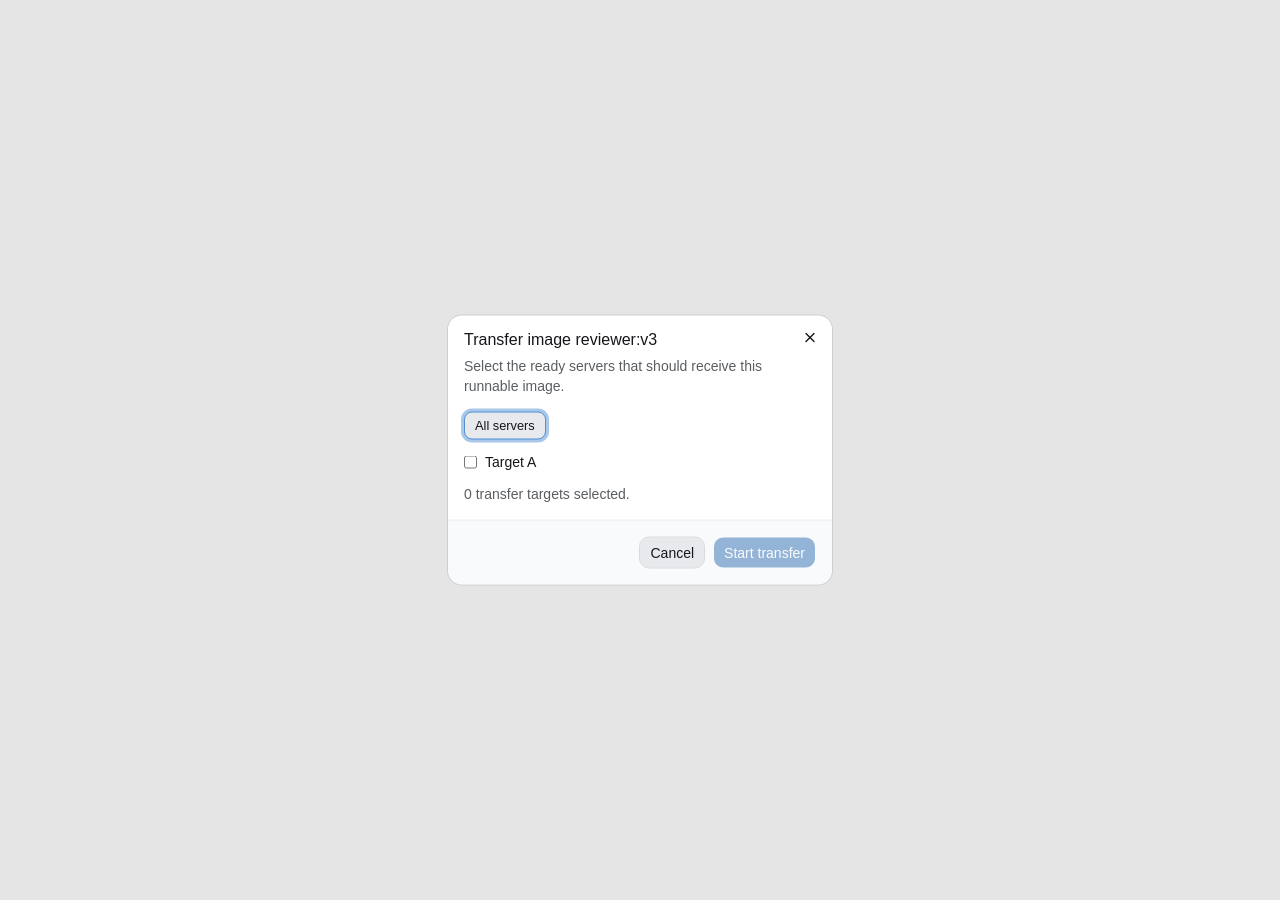
it: retags and retries only the conflicted target without another export
Click the button "All servers". click: {"x": 505, "y": 426}
box: [464,412,546,440]
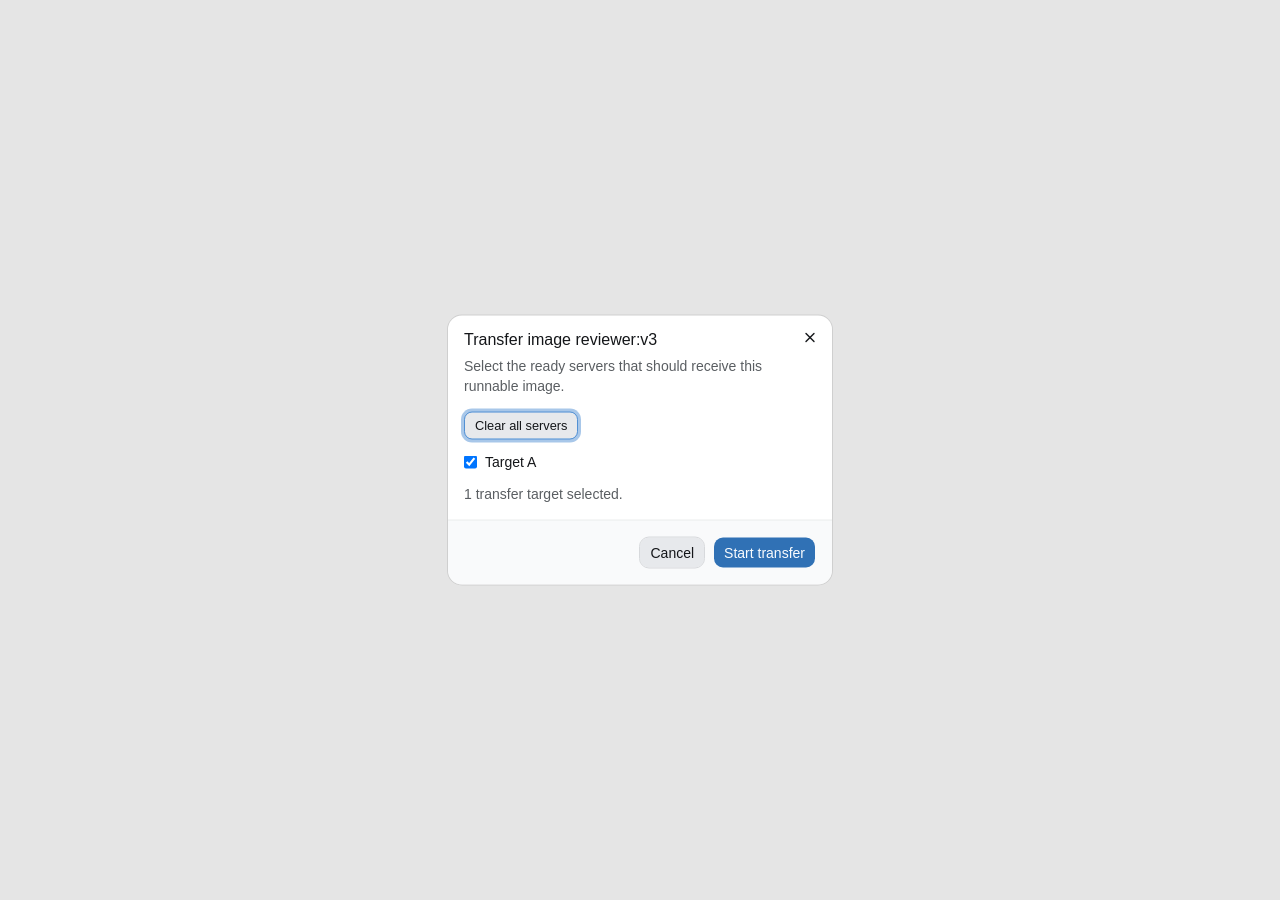
Click the button "Start transfer". click: {"x": 765, "y": 552}
box: [713,536,816,568]
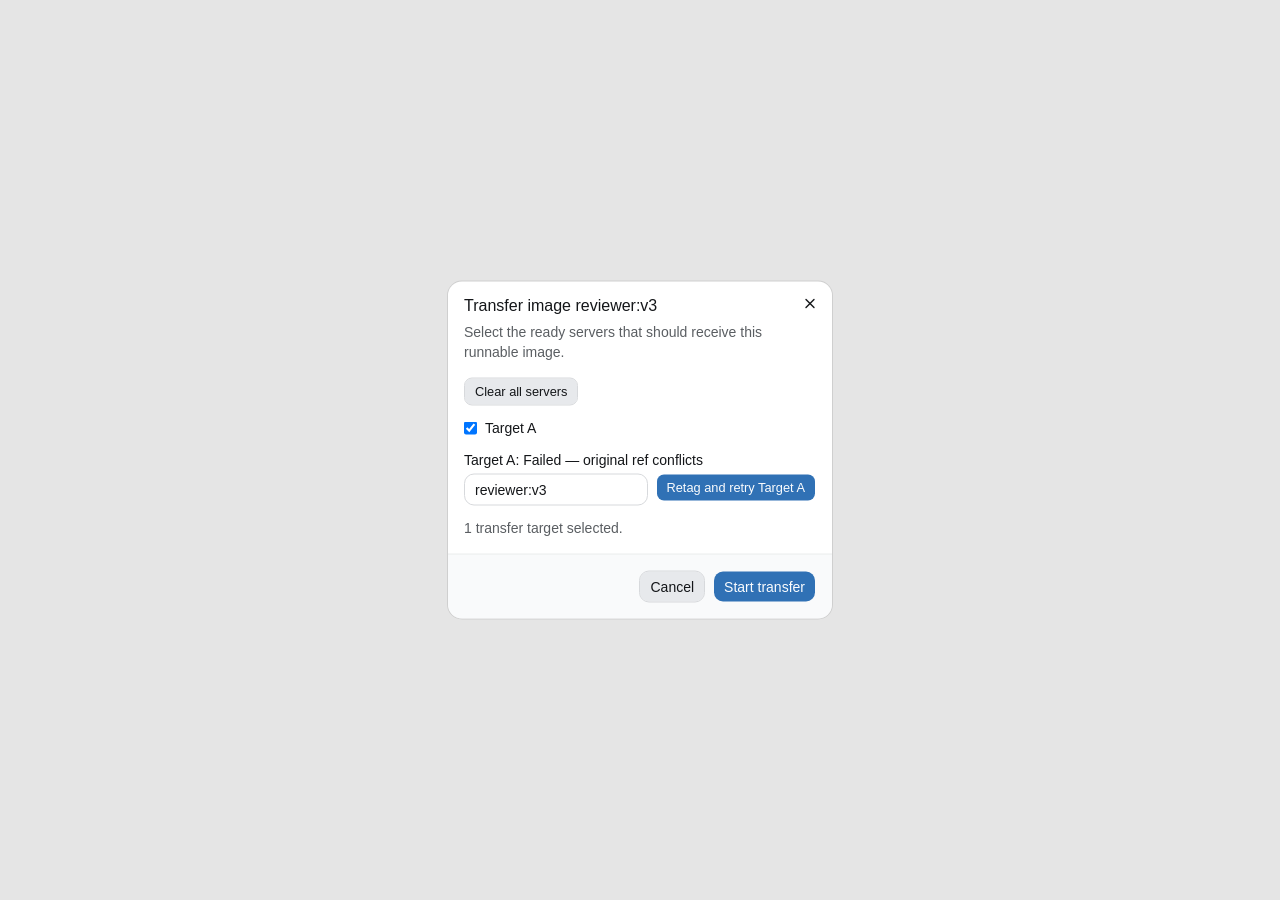
Expected: the field named "Retag and retry for Target A" holds "reviewer:v3"
Replace the text in the field named "Retag and retry for Target A" with "  reviewer-copy:v4  ". click: {"x": 556, "y": 490}
box: [464,474,648,506]
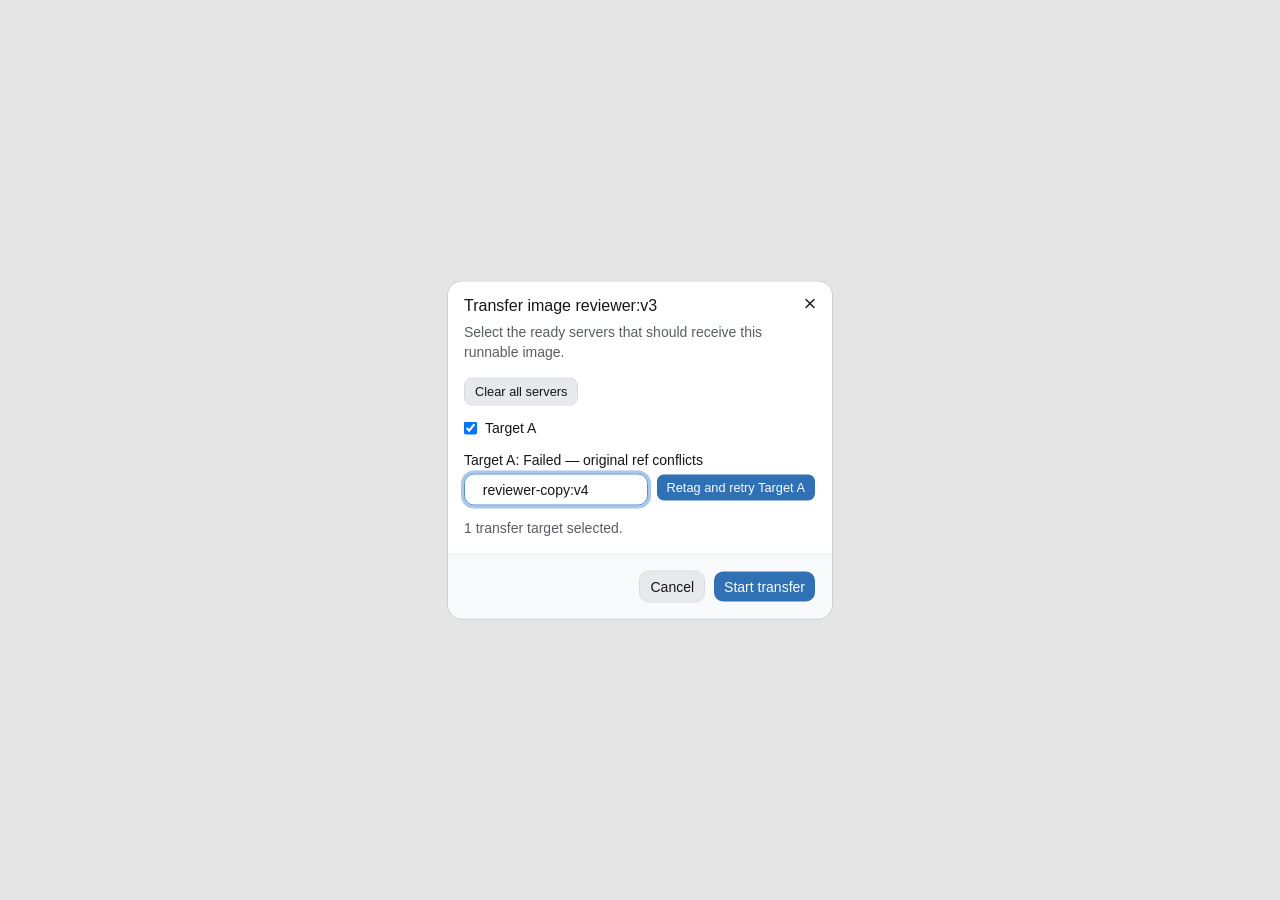
Click the button "Retag and retry Target A". click: {"x": 736, "y": 488}
box: [656,474,816,502]
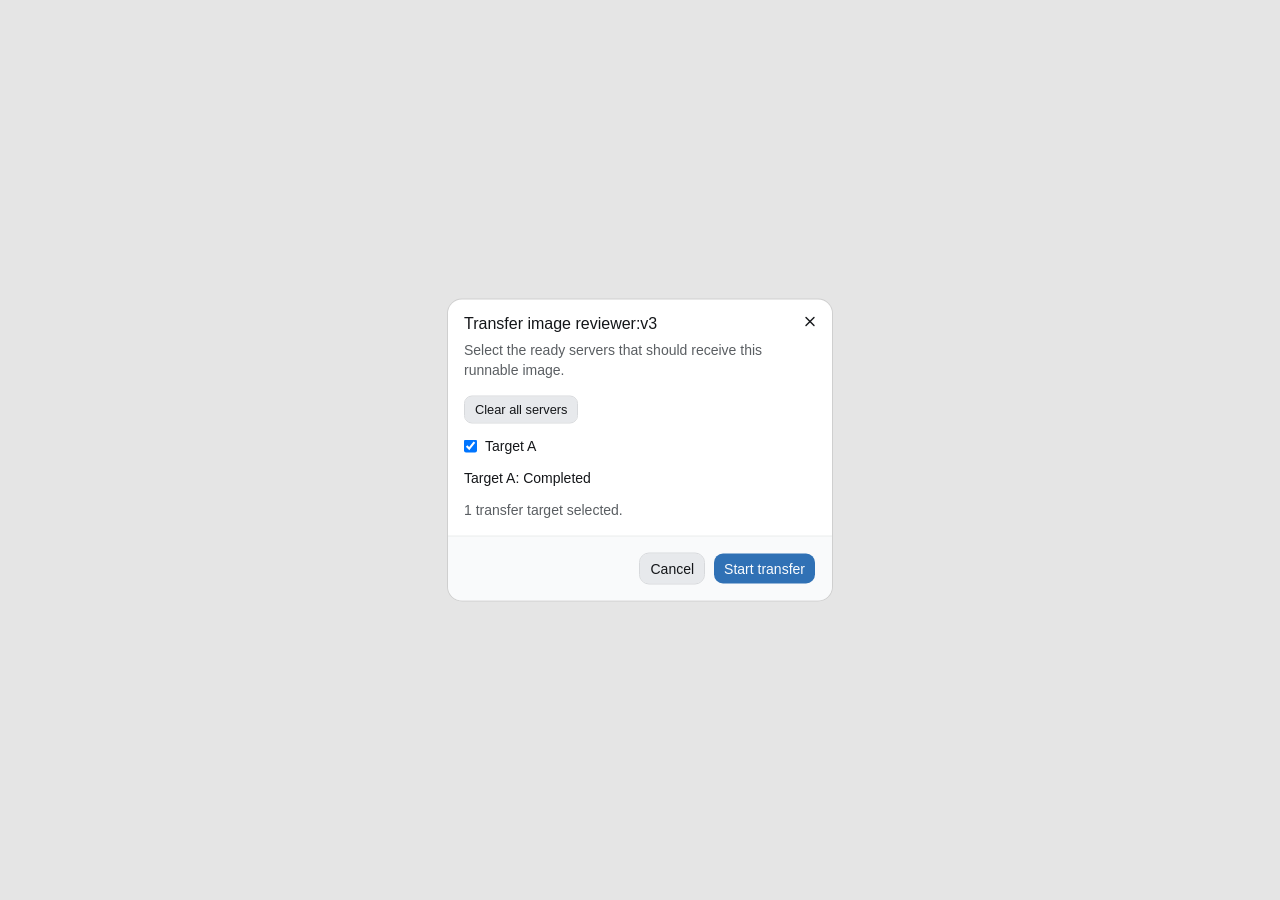
Expected: the text "Target A: Completed" is shown, [464,470,591,486]
